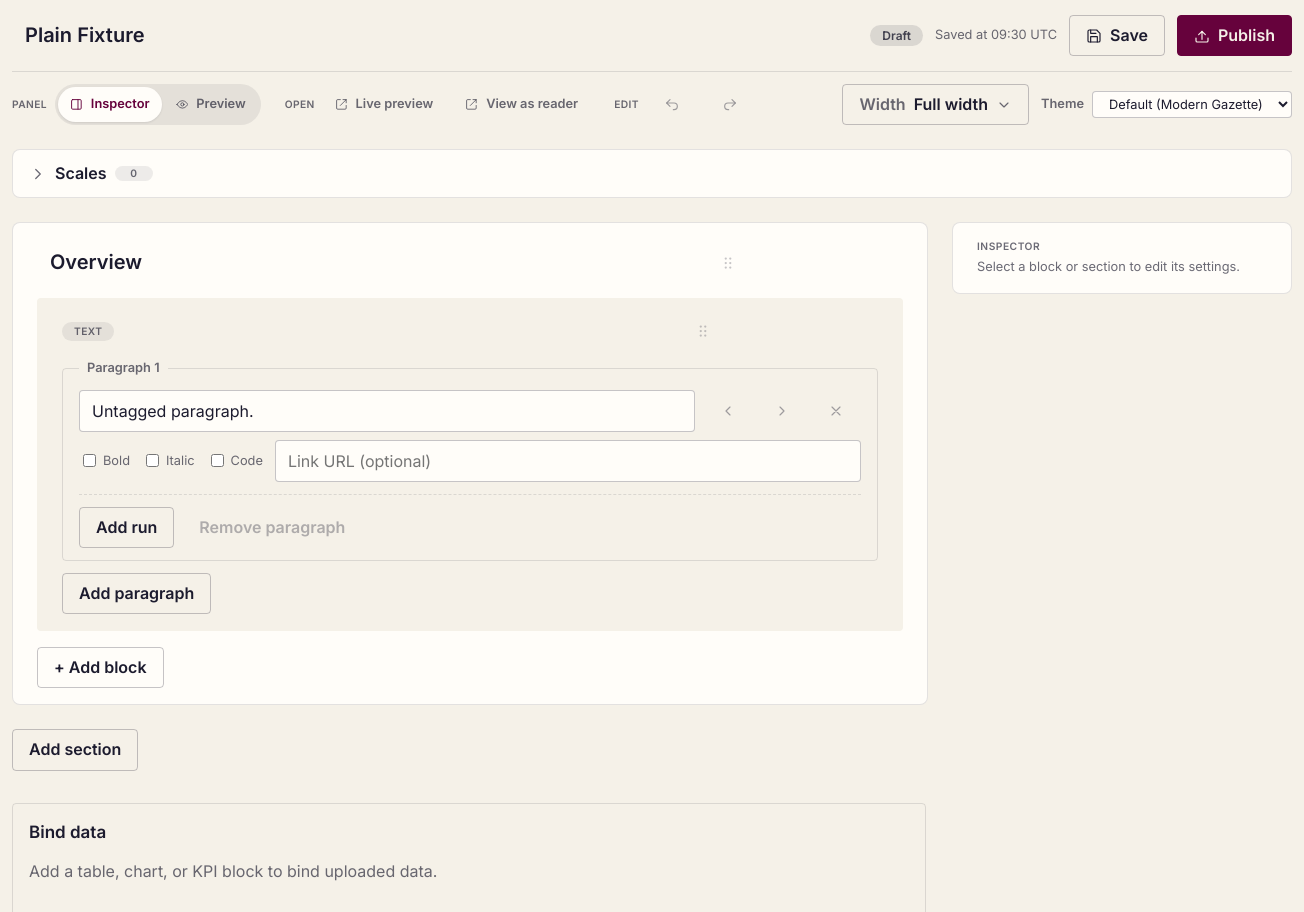
Test: Story 10.6 audience-aware preview › reflects an audience tag set in the editor immediately in the level-switched preview
Click the header with class "section-head" at (387, 263), box [37,239,737,286]
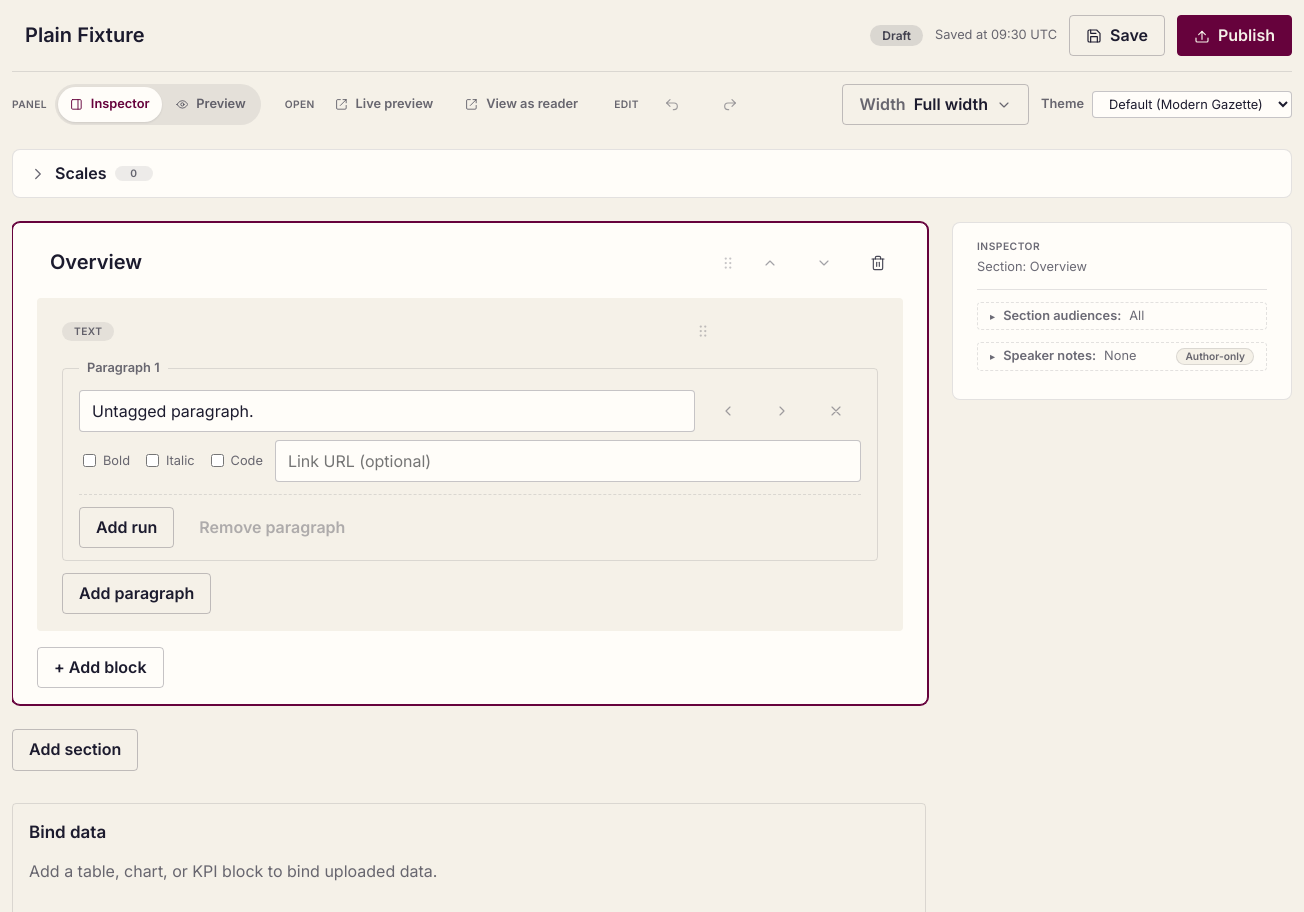
Click the heading "Section audiences: all" at (1074, 315), box [1003,308,1144,323]
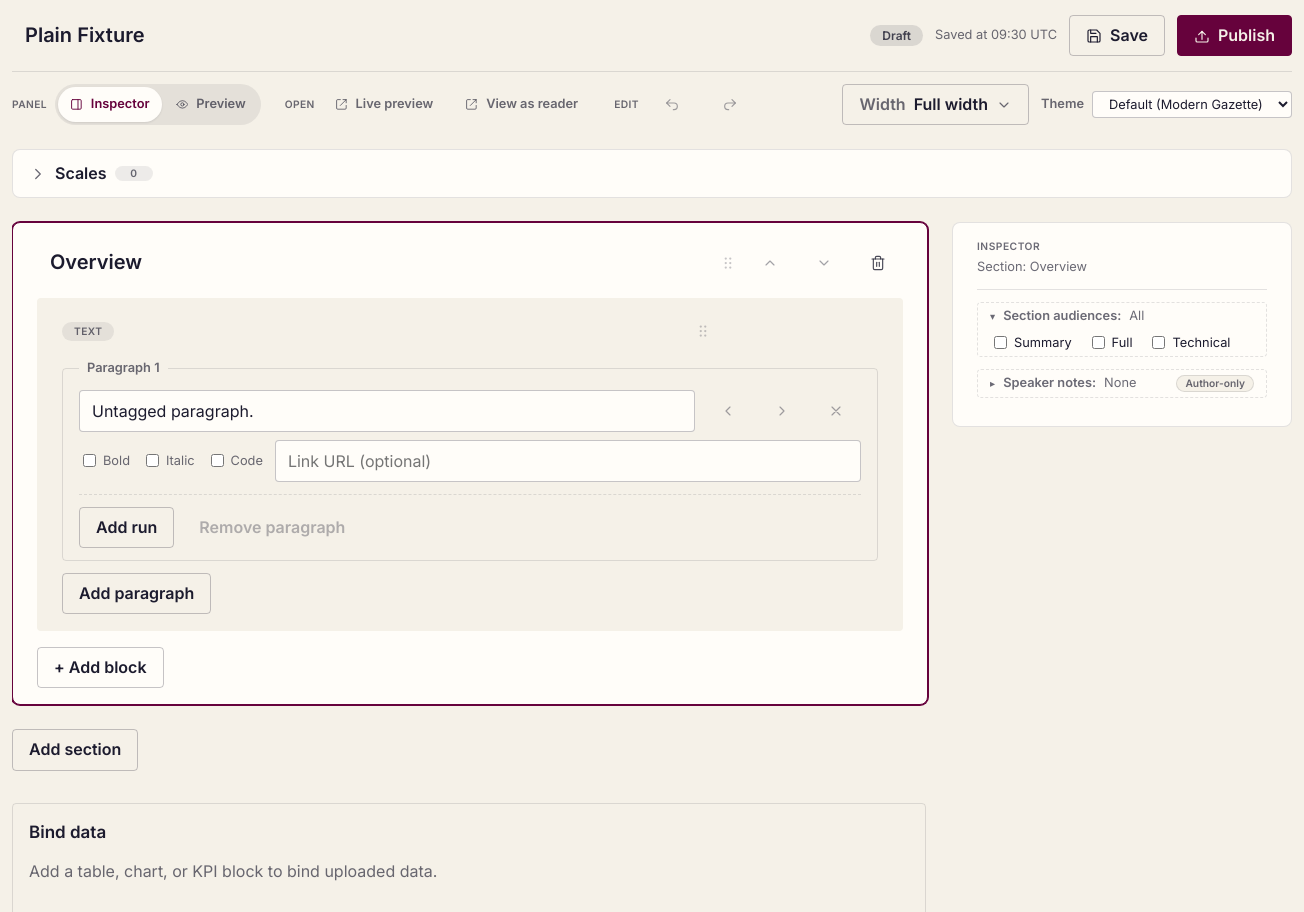
Click the checkbox labelled "technical" at (1159, 343), box [1152,336,1166,349]
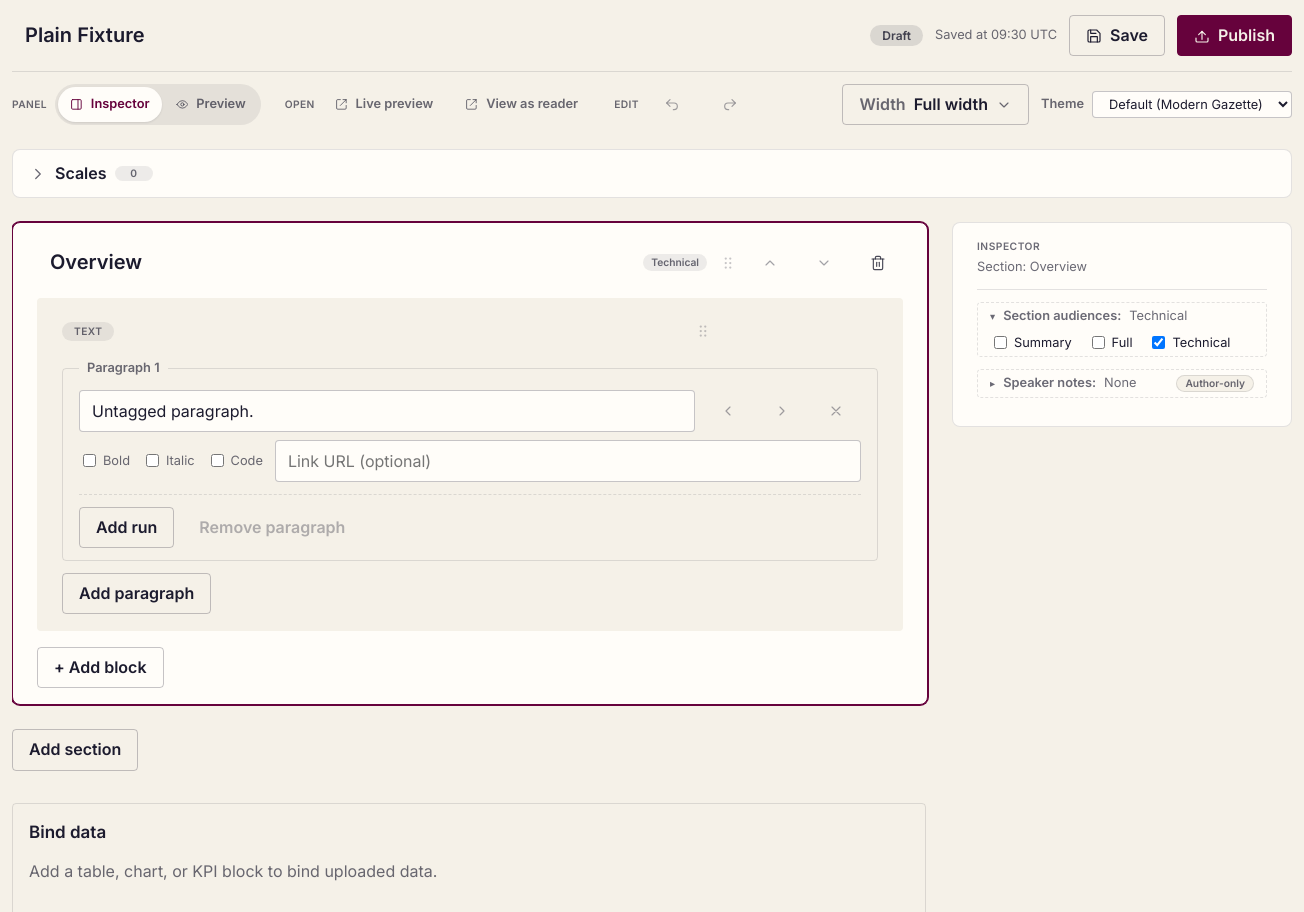
Click the button "Preview" at (211, 105), box [164,87,258,122]
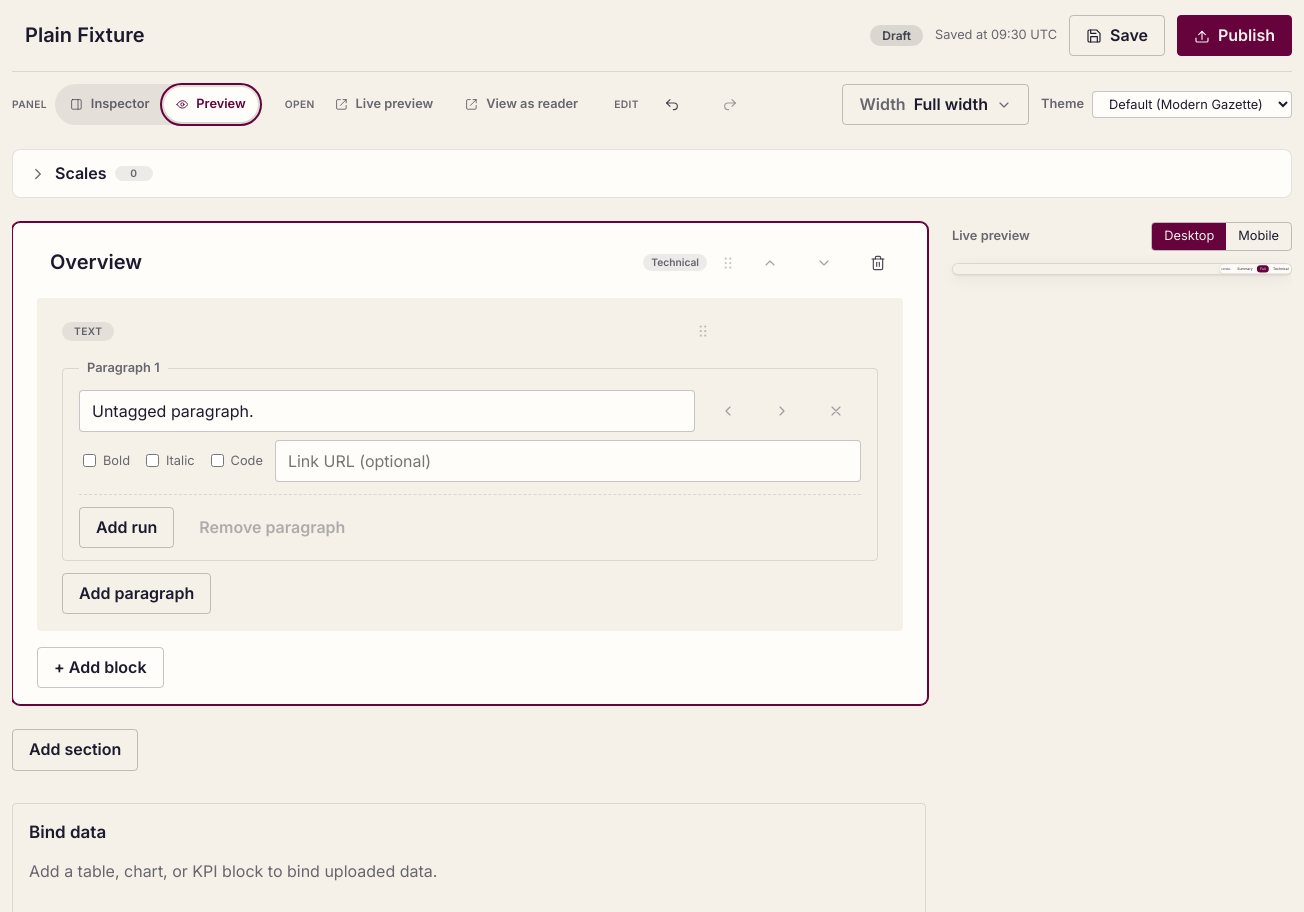
Check: the radio button named "audience-level" is shown, box [1237,267,1253,271]
